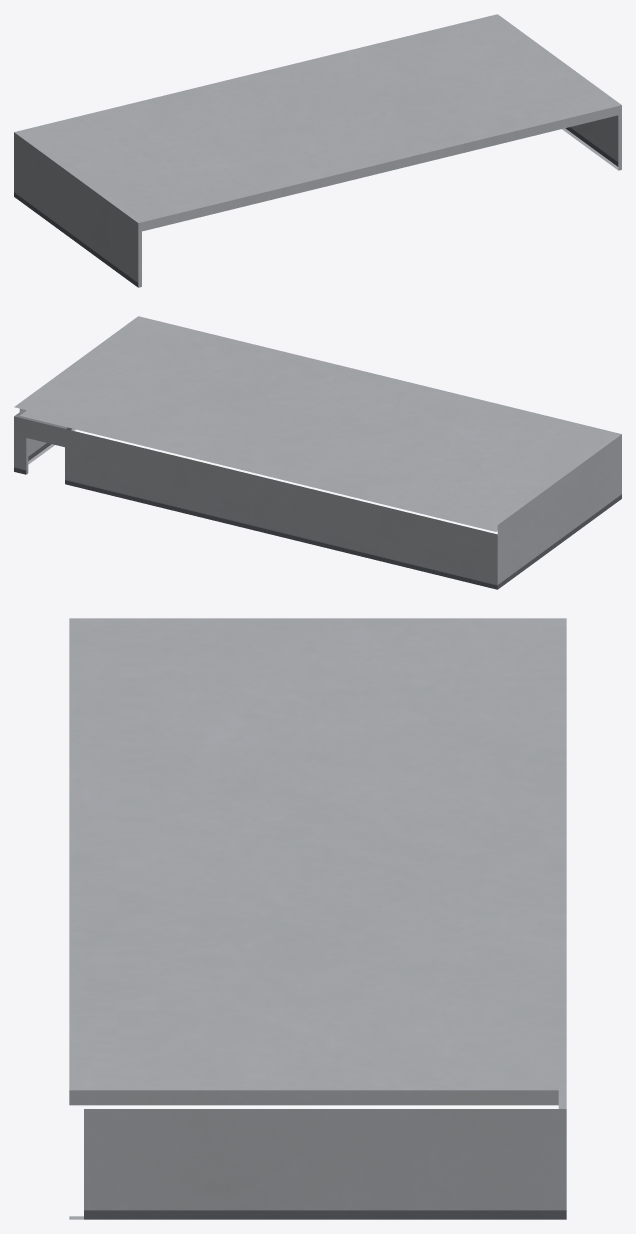
The model's file is BgMD_Tanihira_Wall_0601.fbx.
3 views of the same model, one above another, from view 1: azimuth 30°, elevation 25°; view 2: azimuth 150°, elevation 25°; view 3: azimuth 270°, elevation 25° (orthographic). The views are drawn at different scales.
Visible parts, largest first — view 1: polySurface171; view 2: polySurface171; view 3: polySurface171.
Boxes of the visible parts, box(x1,y1,x2,y2) form: polySurface171: box(14, 14, 621, 287); polySurface171: box(14, 316, 621, 589); polySurface171: box(69, 618, 566, 1219).
Bounding box in the file's own units: 2740 × 350 × 1220.
